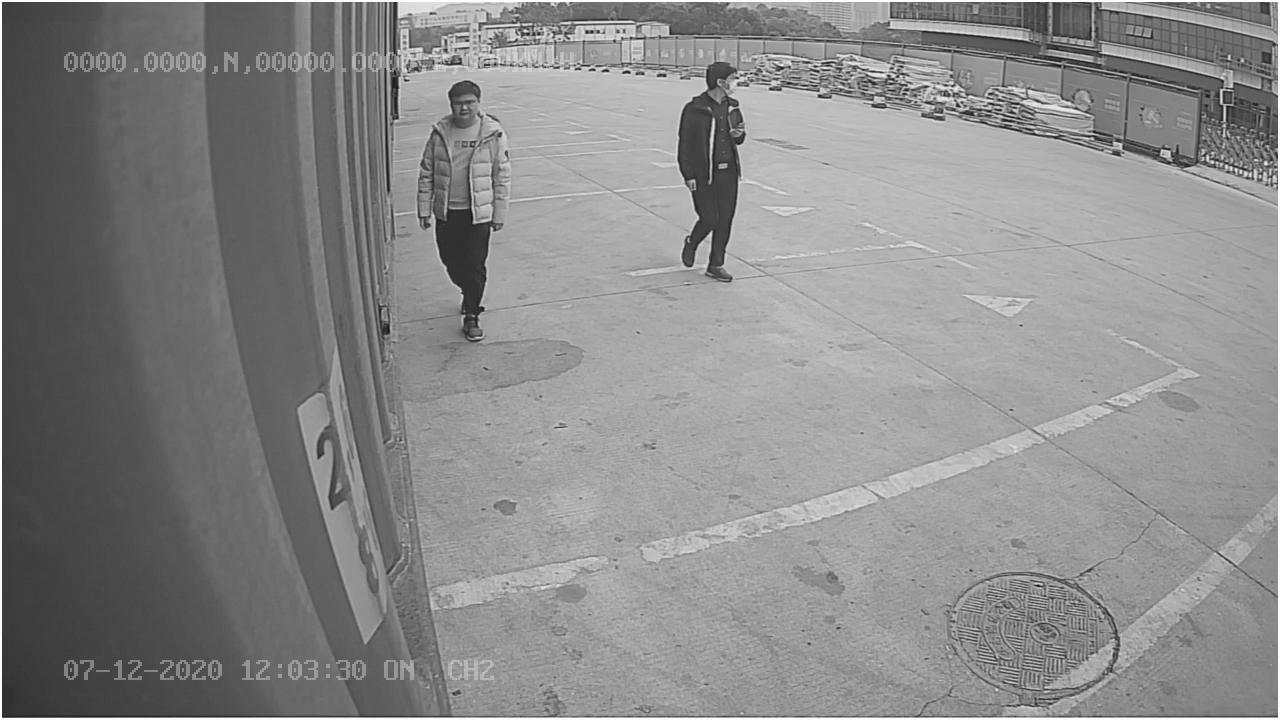person: (408, 77, 510, 341), (669, 61, 754, 288)
